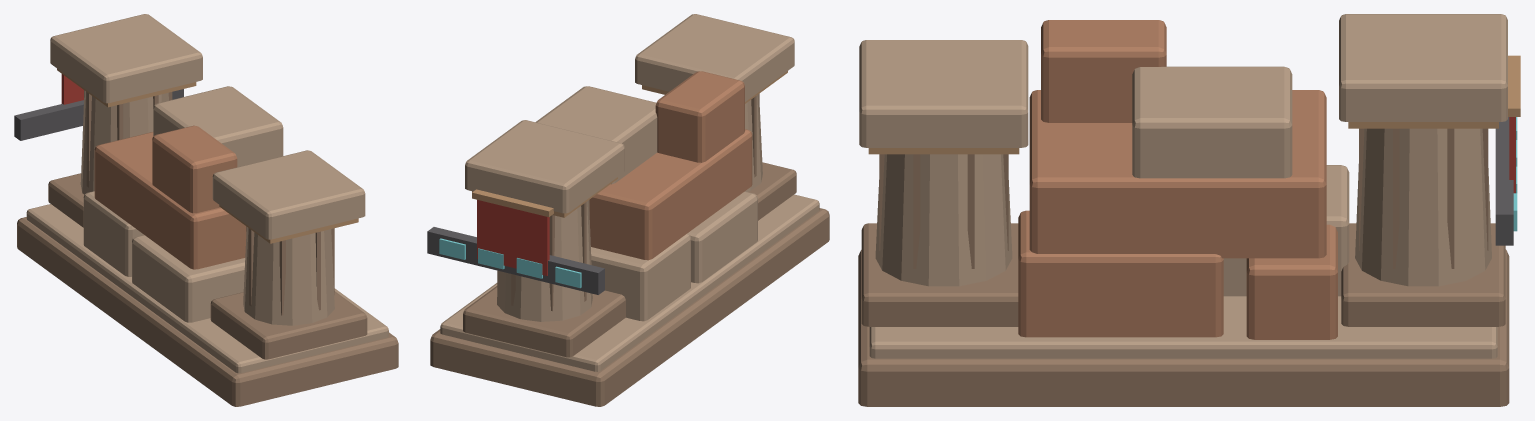
The model's file is rn2-canion-amb.glb.
3 renders of one model, left to right at view 1: azimuth 30°, elevation 25°; view 2: azimuth 150°, elevation 25°; view 3: azimuth 270°, elevation 25°, orthographic. The views are drawn at different scales.
Parts seen in each view (by area): view 1: rn2_canion_amb_body; view 2: rn2_canion_amb_body, rn2_canion_amb_glow; view 3: rn2_canion_amb_body.
Boxes of the visible parts, left/top/right/bottom form: rn2_canion_amb_body: left=14, top=14, right=398, bottom=406; rn2_canion_amb_body: left=427, top=14, right=829, bottom=406; rn2_canion_amb_glow: left=439, top=238, right=581, bottom=288; rn2_canion_amb_body: left=858, top=14, right=1520, bottom=406.
Bounding box in the file's own units: 2.48 × 2.9 × 5.8.
